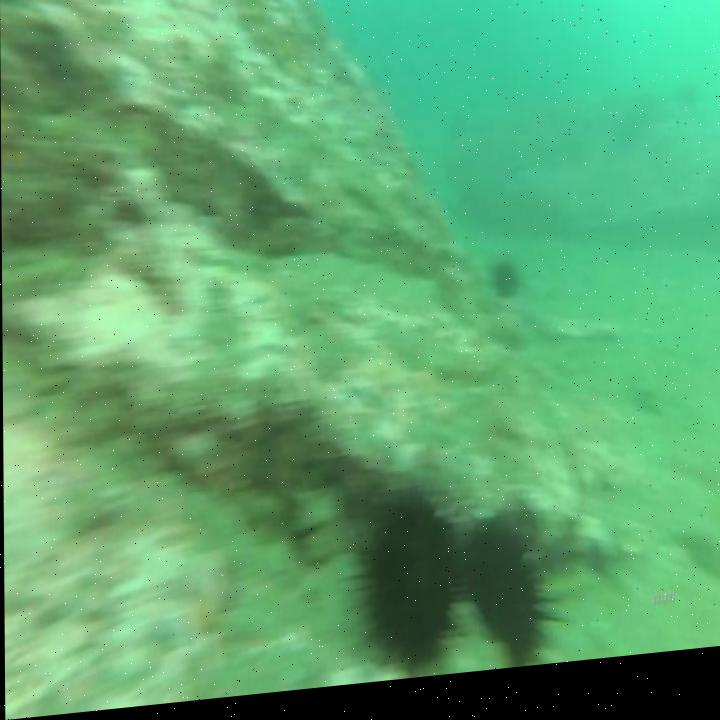echinus: (355, 482, 457, 689), (456, 516, 544, 681)
